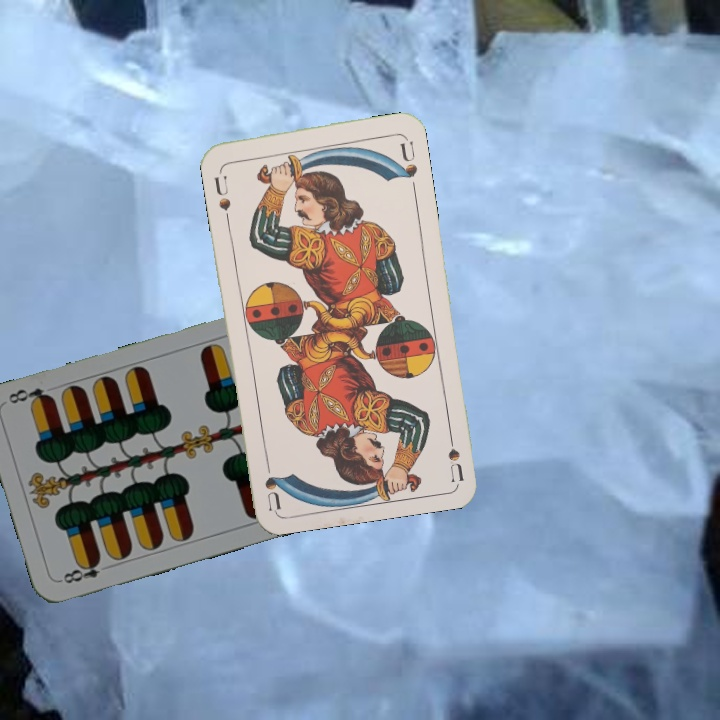E8: (56, 555, 103, 587)
SU: (444, 423, 467, 483), (210, 171, 233, 213)
